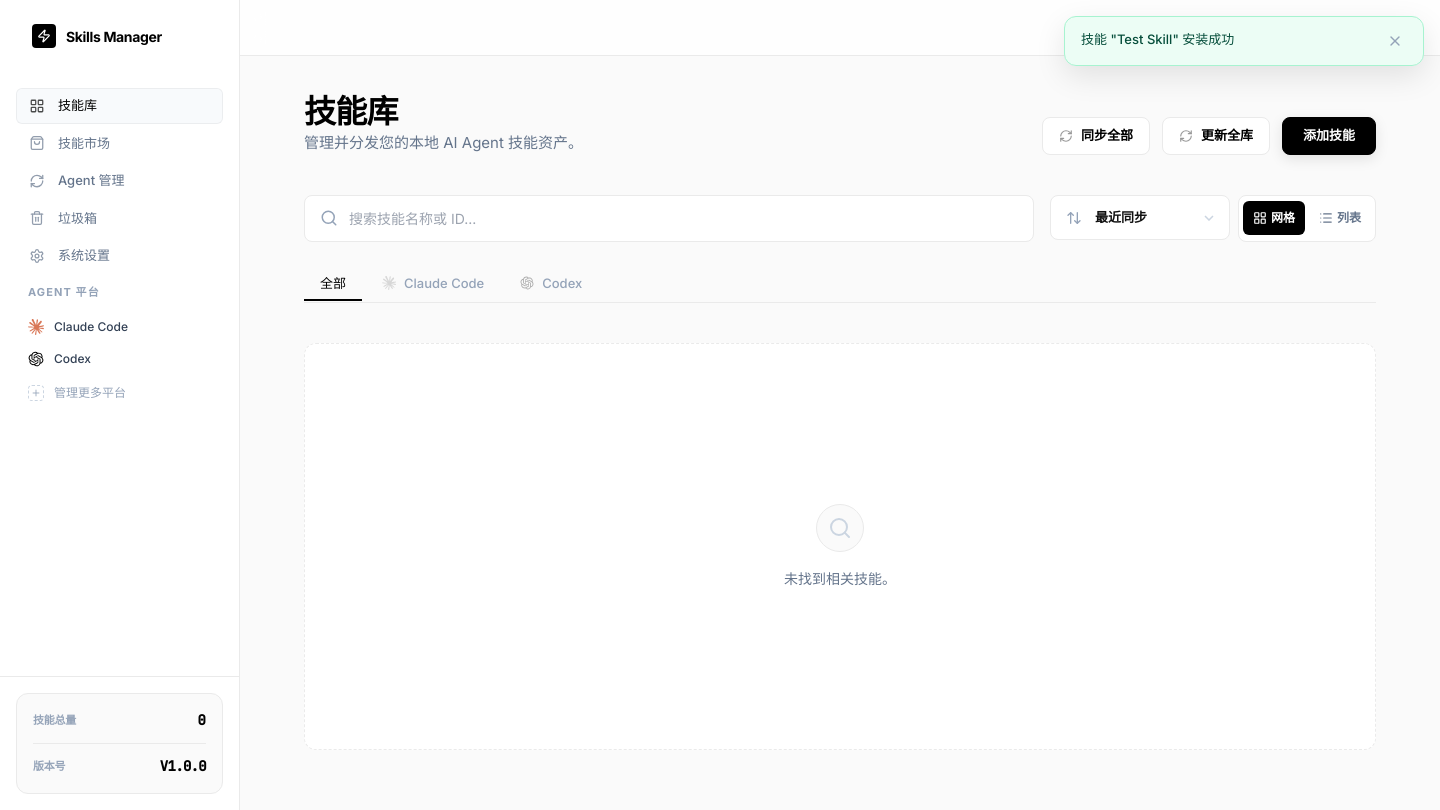
App › navigates to marketplace when clicking dashboard add-skill button
Expected: the heading "技能库" is shown, [304,92,398,131]
Click the button "添加技能" at [1329, 136], box [1282,117,1376,154]
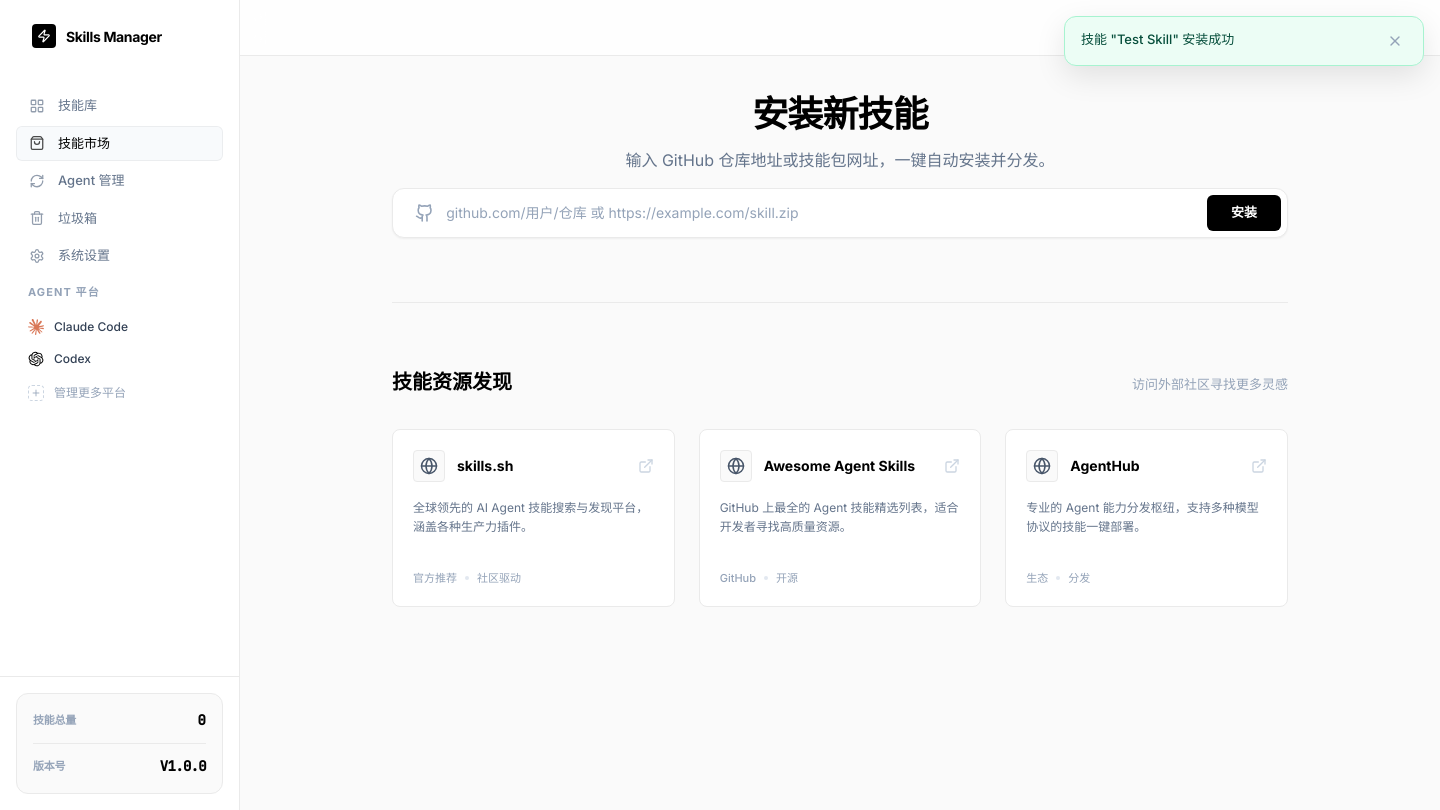
Now the heading "安装新技能" is shown, box [752,92,928,136]
